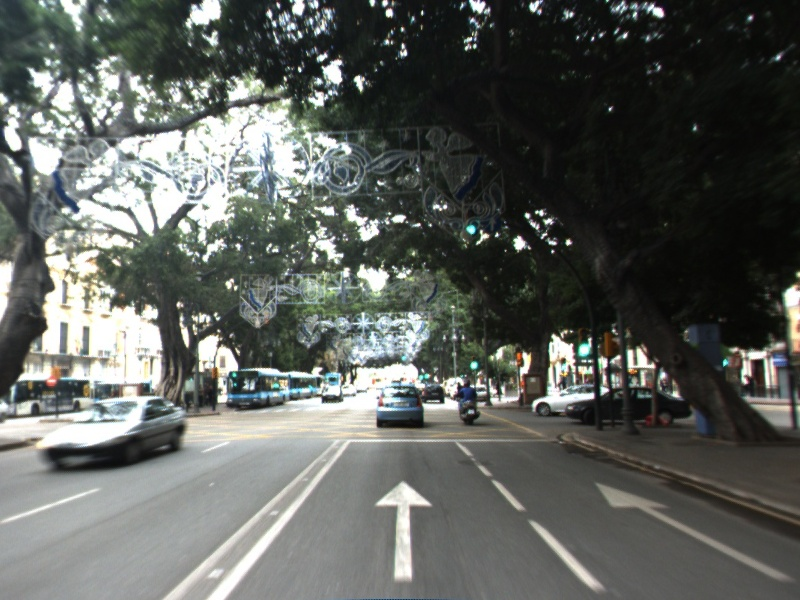STRAIGHT: (592, 480, 798, 583), (371, 476, 437, 586)
